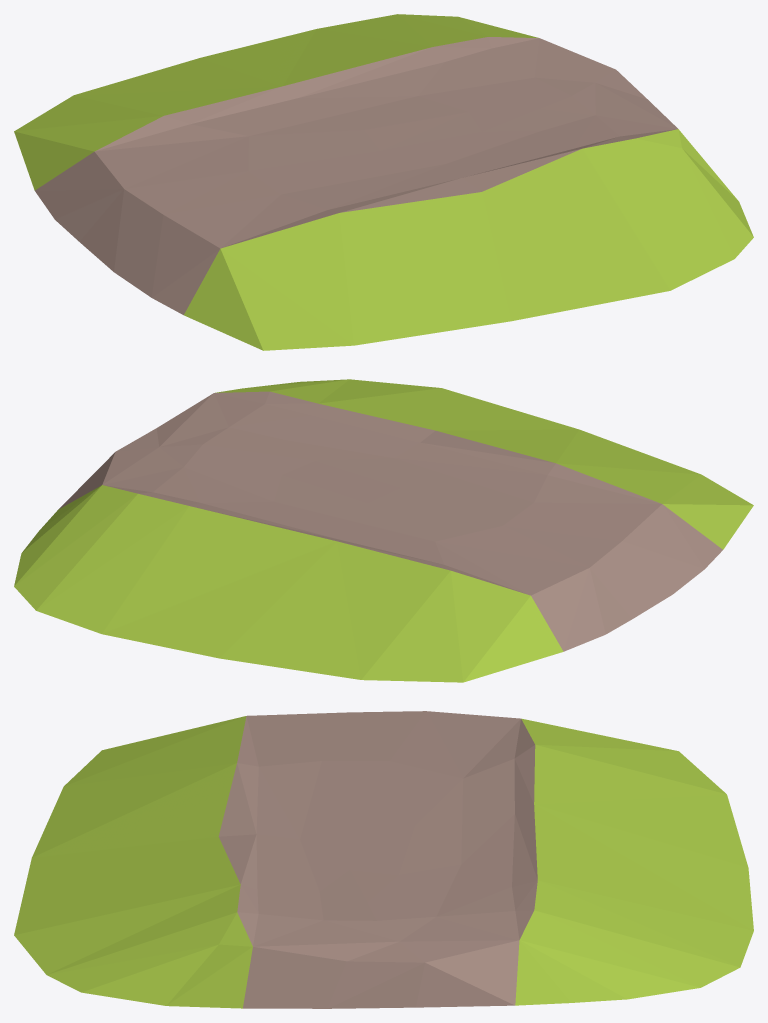
Rendered from Road_004.glb.
3 renders of one model, top to bottom at view 1: azimuth 30°, elevation 25°; view 2: azimuth 150°, elevation 25°; view 3: azimuth 270°, elevation 25°, orthographic. The views are drawn at different scales.
Visible parts, largest first — view 1: Road_004; view 2: Road_004; view 3: Road_004.
Part boxes in pixels (x1,y1,x2,y2): Road_004: [14, 14, 753, 350]; Road_004: [14, 379, 753, 682]; Road_004: [14, 711, 753, 1008].
Size of the model in its own units: 27.47 by 2.81 by 30.07.
Materials: 1 (1 with a texture image).
